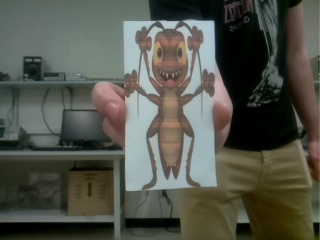Angry: (124, 21, 215, 190)
